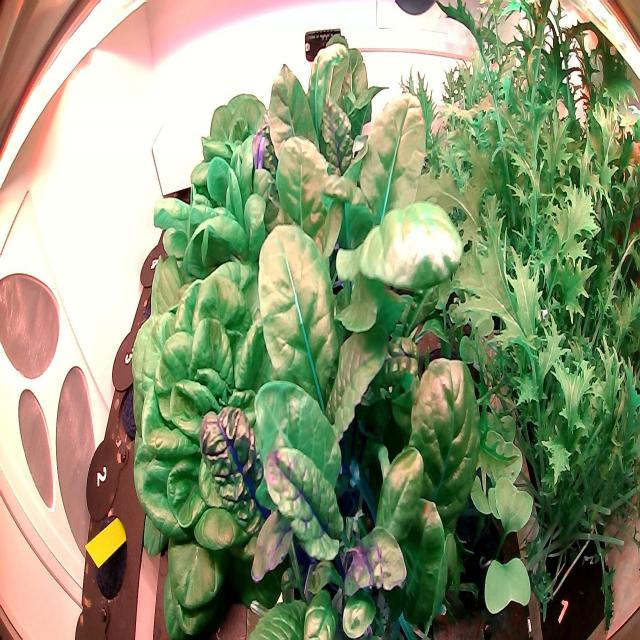Ready: (129, 310, 314, 639), (132, 156, 311, 364), (184, 79, 298, 260)
pod: (84, 507, 132, 607), (114, 376, 153, 452)
